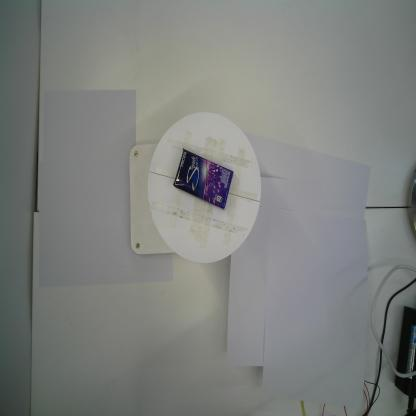Gum: (172, 147, 234, 210)
